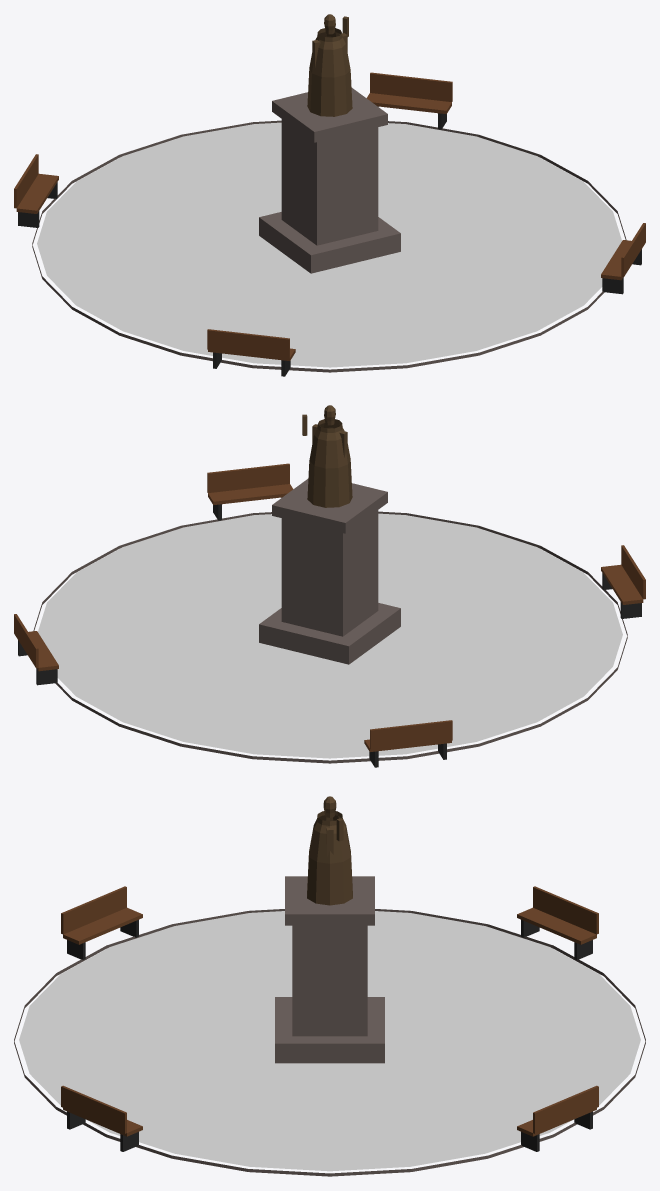
File: petofi-hi.glb
The picture shows the model from 3 angles, top to bottom: view 1: azimuth 30°, elevation 25°; view 2: azimuth 150°, elevation 25°; view 3: azimuth 270°, elevation 25°; orthographic projection. The views are drawn at different scales.
Parts seen in each view (by area): view 1: lm-petofi; view 2: lm-petofi; view 3: lm-petofi.
Boxes of the visible parts, bbox=[...] form: lm-petofi: bbox=[14, 14, 645, 376]; lm-petofi: bbox=[14, 405, 645, 767]; lm-petofi: bbox=[14, 796, 645, 1176].
Size of the model in its own units: 12.6 by 5.42 by 12.6.
